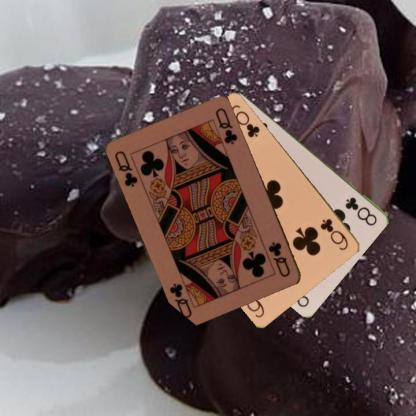6c: (318, 215, 350, 252)
8c: (343, 194, 379, 228)
Qc: (112, 148, 139, 189), (266, 239, 292, 279)
